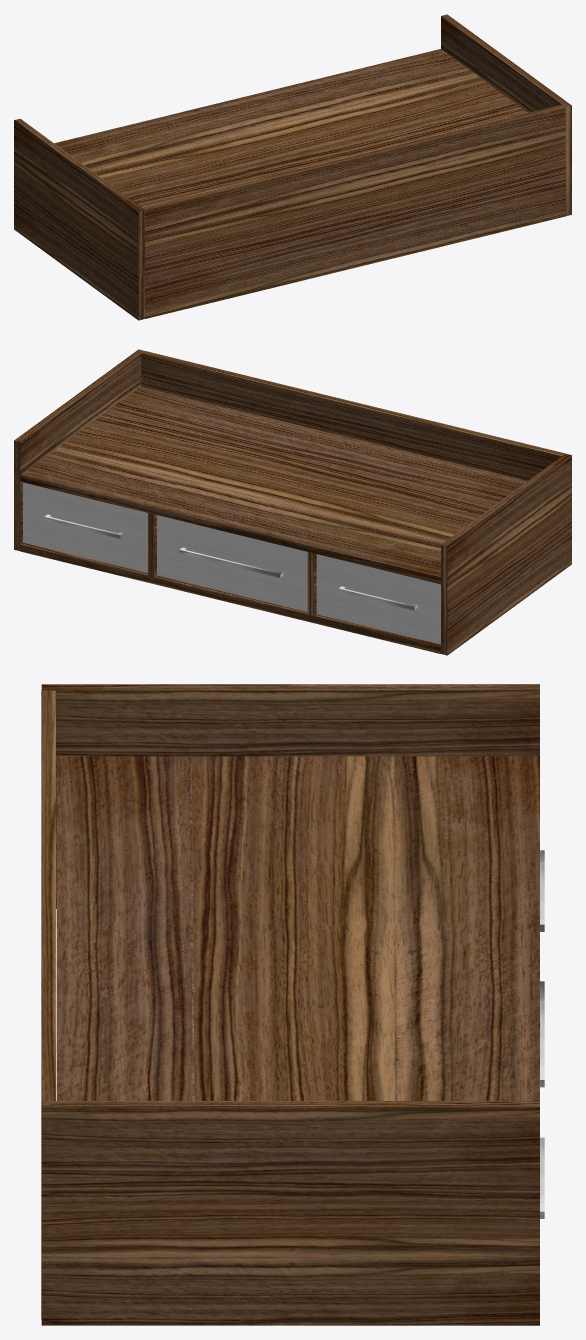
File: Bed furniture.FBX
3 views of the same model, one above another, from view 1: azimuth 30°, elevation 25°; view 2: azimuth 150°, elevation 25°; view 3: azimuth 270°, elevation 25° (orthographic). The views are drawn at different scales.
Parts seen in each view (by area): view 1: Bed furniture; view 2: Bed furniture; view 3: Bed furniture.
Part boxes in pixels (x1,y1,x2,y2): Bed furniture: (14, 14, 571, 320); Bed furniture: (14, 349, 571, 655); Bed furniture: (41, 684, 544, 1325).
Bounding box in the file's own units: 2924 × 1471 × 705.
1 material, 1 textured.
